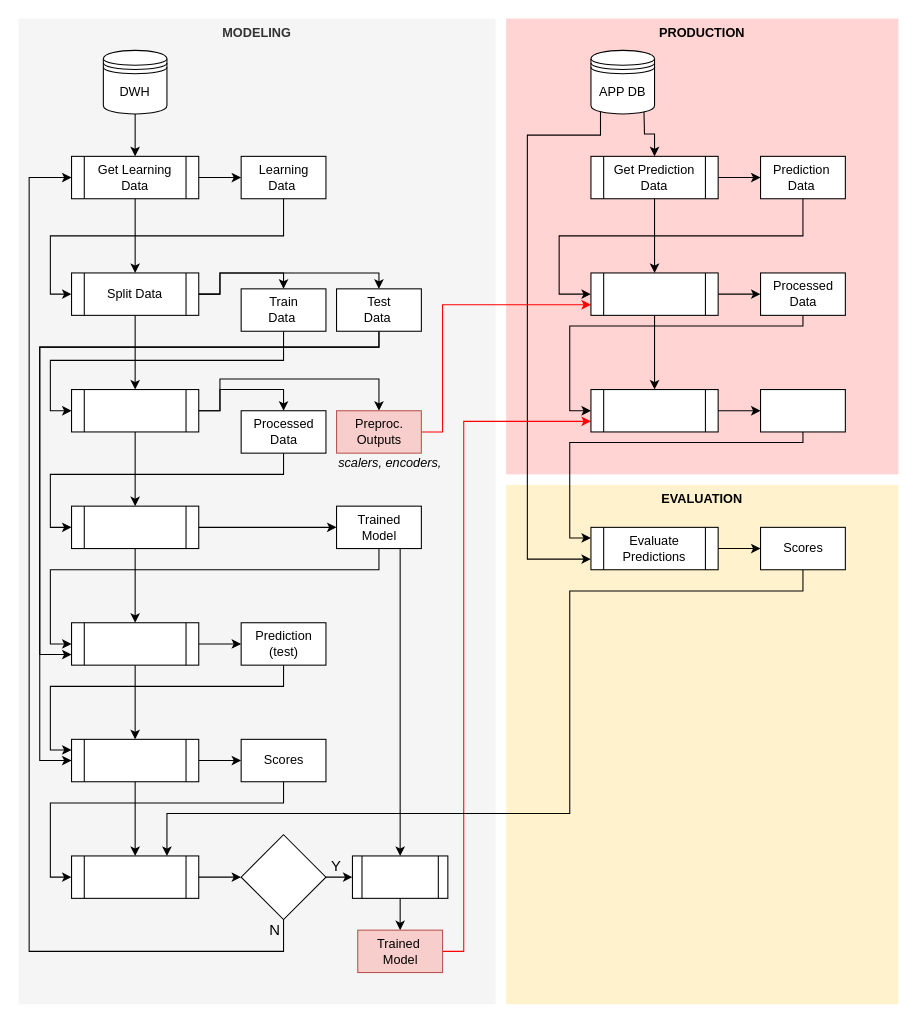
Image size: 916x1022. Some labels were removed from this diagram. Here are the shapes that lost their labels. From the top down, the box of each, then its label:
(590, 272, 718, 315): Preprocess Data
(70, 388, 199, 432): Build Preprocessor
(590, 388, 718, 432): Predict Data
(759, 388, 845, 432): Predicted Data
(70, 505, 199, 549): Train Model
(70, 622, 199, 665): Predict Test Data
(70, 738, 199, 782): Evaluate Model
(70, 855, 199, 898): Production Decision
(240, 834, 326, 920): Score> Threshold
(351, 855, 448, 898): Export Model
